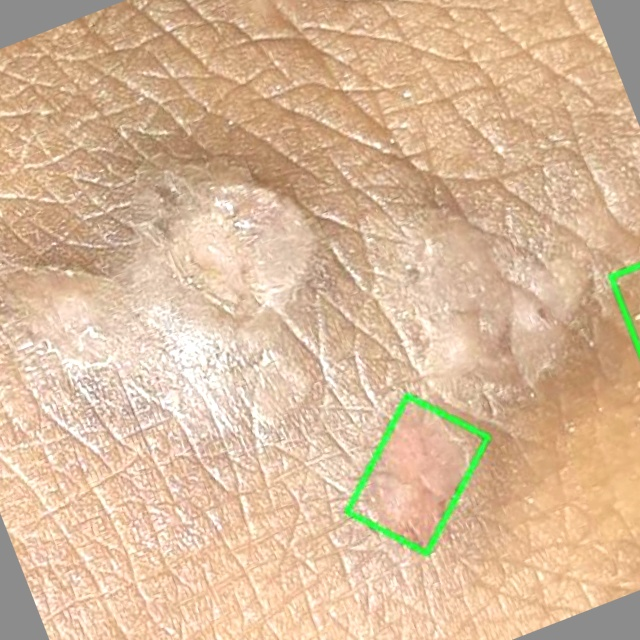Contact Dermatitis: (346, 396, 487, 554)
